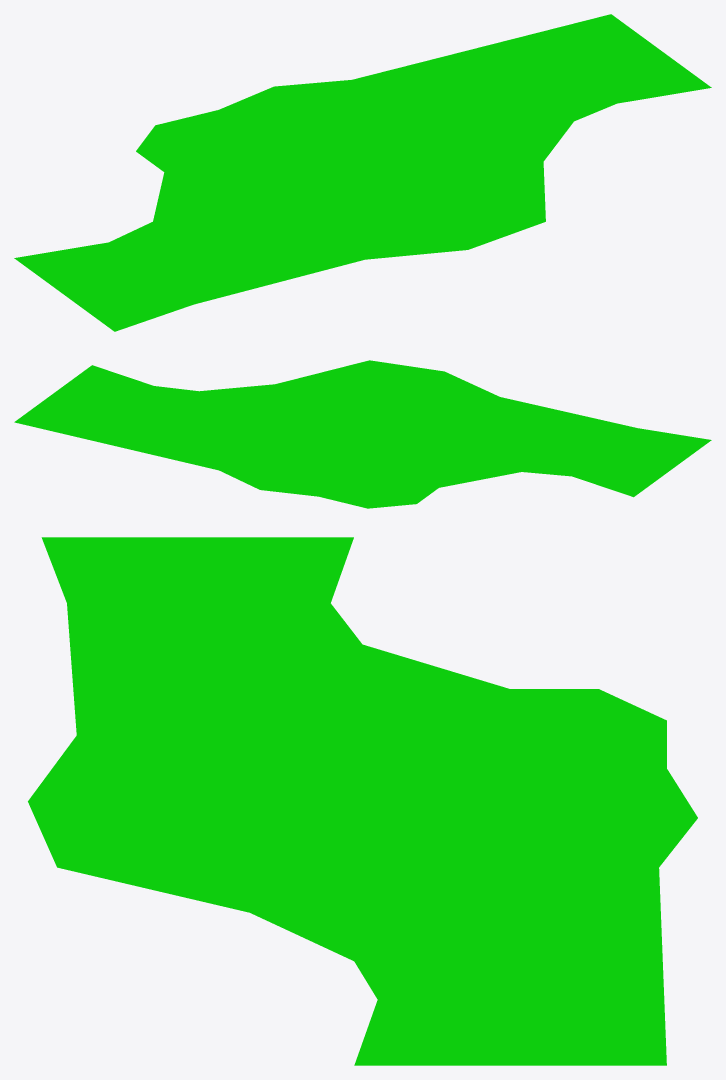
3 renders of one model, top to bottom at view 1: azimuth 30°, elevation 25°; view 2: azimuth 150°, elevation 25°; view 3: azimuth 270°, elevation 25°, orthographic. The views are drawn at different scales.
Visible parts, largest first — view 1: BG001_1035_00_c01; view 2: BG001_1035_00_c01; view 3: BG001_1035_00_c01.
Part boxes in pixels (box(x1,y1,x2,y2)): BG001_1035_00_c01: box(14, 14, 711, 331); BG001_1035_00_c01: box(14, 360, 711, 508); BG001_1035_00_c01: box(28, 537, 697, 1065).
Size of the model in its own units: 1600 by 0 by 858.
